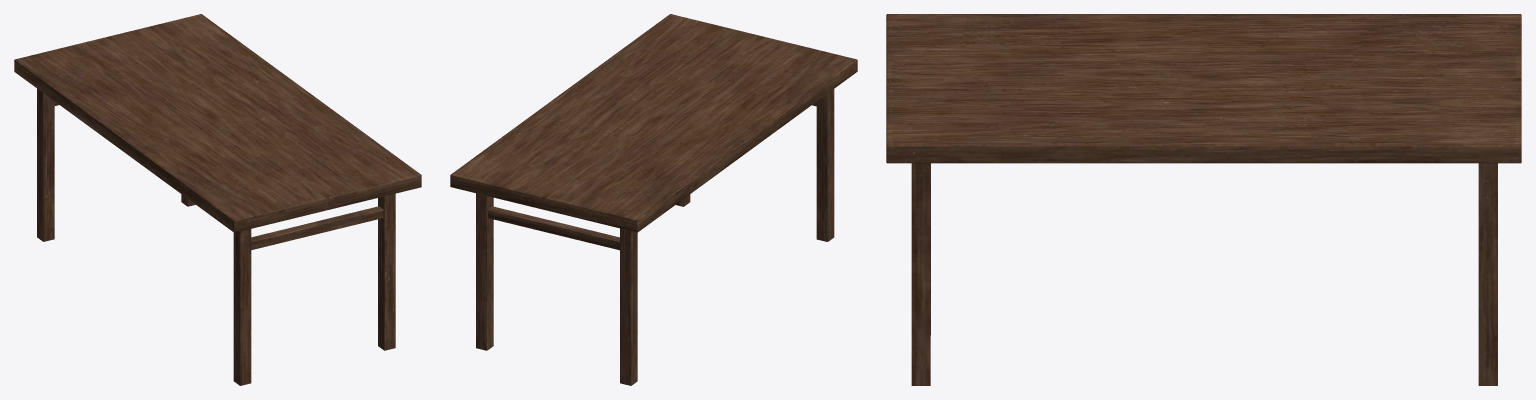
File: 4adab919-ed88-4fae-96c7-7a021800b117.glb
3 renders of one model, left to right at view 1: azimuth 30°, elevation 25°; view 2: azimuth 150°, elevation 25°; view 3: azimuth 270°, elevation 25°, orthographic. The views are drawn at different scales.
Visible parts, largest first — view 1: zhuozi.001; view 2: zhuozi.001; view 3: zhuozi.001.
Boxes of the visible parts, x1,y1,x2,y2 form: zhuozi.001: (14,14,421,385); zhuozi.001: (450,14,857,385); zhuozi.001: (886,14,1521,385).
Size of the model in its own units: 1.02 by 0.9066 by 2.07.
Materials: 1 (1 with a texture image).
